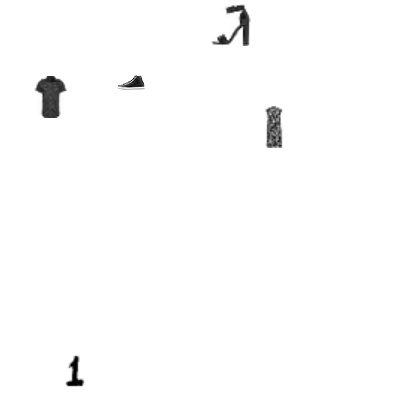1: (54, 353, 96, 395)
Dress: (252, 106, 294, 148)
Sandal: (210, 4, 252, 46)
Shirt: (29, 76, 71, 118)
Sneaker: (117, 68, 145, 96)
